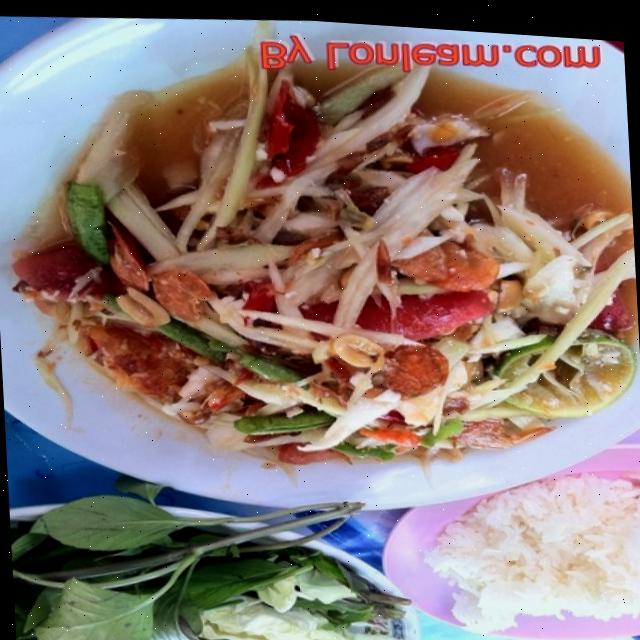蔬菜料理: (5, 13, 640, 542)
